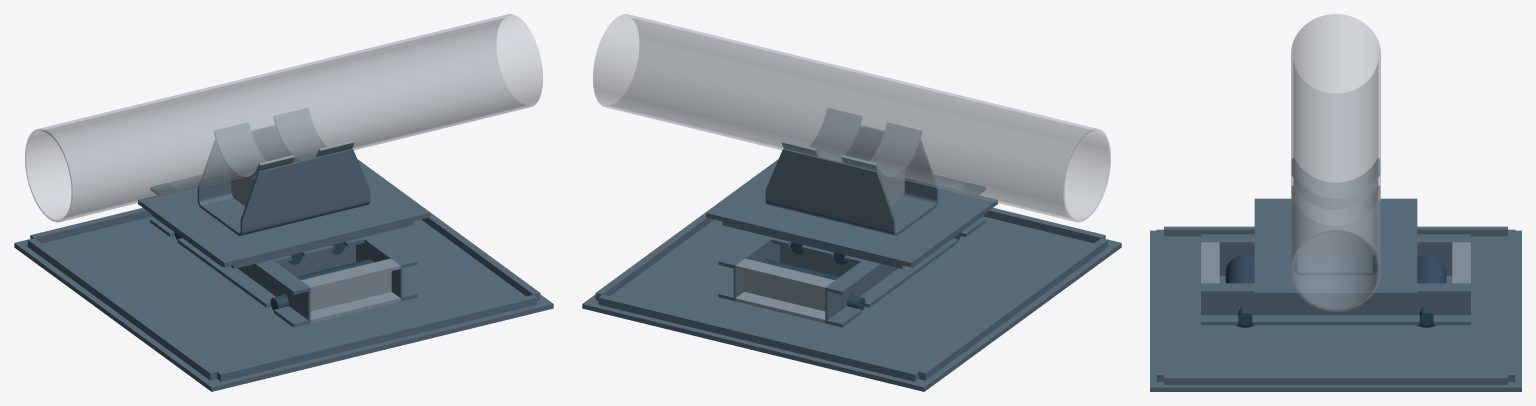
The model's file is TS-628.00.000-00-opora-dn194-hod200.glb.
3 renders of one model, left to right at view 1: azimuth 30°, elevation 25°; view 2: azimuth 150°, elevation 25°; view 3: azimuth 270°, elevation 25°, orthographic. The views are drawn at different scales.
Parts seen in each view (by area): view 1: truba, plita_niz_osnovanie_0, korpus_skoba_36, plita_verh_osnovanie_31, karetka_rebro_shveller_7, karetka_shveller_prodolnyj_5, plita_niz_polosa2_3, plita_niz_polosa3_4, korpus_podushka_39, korpus_podushka_40, plita_niz_polosa3_2, karetka_shveller_prodolnyj_8 (+4 smaller); view 2: truba, plita_niz_osnovanie_0, korpus_skoba_36, plita_verh_osnovanie_31, karetka_rebro_shveller_10, karetka_shveller_prodolnyj_5, plita_niz_polosa2_1, plita_niz_polosa3_4, korpus_podushka_39, korpus_podushka_40, plita_niz_polosa3_2, karetka_shveller_prodolnyj_8 (+4 smaller); view 3: plita_niz_osnovanie_0, truba, plita_verh_osnovanie_31, karetka_shveller_prodolnyj_8, plita_niz_polosa3_2, korpus_rebro3_38, karetka_shveller_prodolnyj_5, korpus_skoba_36, plita_niz_polosa3_4, korpus_podushka_39, korpus_podushka_40, plita_niz_polosa2_1 (+5 smaller).
Boxes of the visible parts, left/top/right/bottom form: truba: left=25, top=14, right=542, bottom=222; plita_niz_osnovanie_0: left=14, top=216, right=553, bottom=391; korpus_skoba_36: left=197, top=125, right=370, bottom=235; plita_verh_osnovanie_31: left=138, top=160, right=429, bottom=267; karetka_rebro_shveller_7: left=301, top=258, right=400, bottom=323; karetka_shveller_prodolnyj_5: left=150, top=183, right=310, bottom=327; plita_niz_polosa2_3: left=217, top=294, right=537, bottom=381; plita_niz_polosa3_4: left=27, top=238, right=216, bottom=380; korpus_podushka_39: left=214, top=122, right=294, bottom=179; korpus_podushka_40: left=274, top=108, right=354, bottom=160; plita_niz_polosa3_2: left=357, top=159, right=540, bottom=300; karetka_shveller_prodolnyj_8: left=356, top=233, right=417, bottom=301; truba: left=593, top=14, right=1110, bottom=222; plita_niz_osnovanie_0: left=582, top=216, right=1121, bottom=391; korpus_skoba_36: left=765, top=125, right=938, bottom=235; plita_verh_osnovanie_31: left=706, top=160, right=997, bottom=267; karetka_rebro_shveller_10: left=735, top=258, right=834, bottom=323; karetka_shveller_prodolnyj_5: left=825, top=183, right=985, bottom=327; plita_niz_polosa2_1: left=598, top=294, right=918, bottom=381; plita_niz_polosa3_4: left=919, top=238, right=1108, bottom=380; korpus_podushka_39: left=841, top=122, right=921, bottom=179; korpus_podushka_40: left=781, top=108, right=861, bottom=160; plita_niz_polosa3_2: left=595, top=159, right=778, bottom=300; karetka_shveller_prodolnyj_8: left=718, top=233, right=779, bottom=301; plita_niz_osnovanie_0: left=1150, top=230, right=1521, bottom=391; truba: left=1291, top=14, right=1380, bottom=311; plita_verh_osnovanie_31: left=1254, top=198, right=1417, bottom=297; karetka_shveller_prodolnyj_8: left=1201, top=283, right=1470, bottom=324; plita_niz_polosa3_2: left=1164, top=375, right=1507, bottom=384; korpus_rebro3_38: left=1297, top=212, right=1374, bottom=258; karetka_shveller_prodolnyj_5: left=1201, top=234, right=1470, bottom=275; korpus_skoba_36: left=1294, top=180, right=1377, bottom=275; plita_niz_polosa3_4: left=1164, top=226, right=1507, bottom=236; korpus_podushka_39: left=1291, top=158, right=1380, bottom=200; korpus_podushka_40: left=1291, top=185, right=1380, bottom=227; plita_niz_polosa2_1: left=1508, top=229, right=1515, bottom=381.
Size of the model in its own units: 1100 by 454 by 800.
